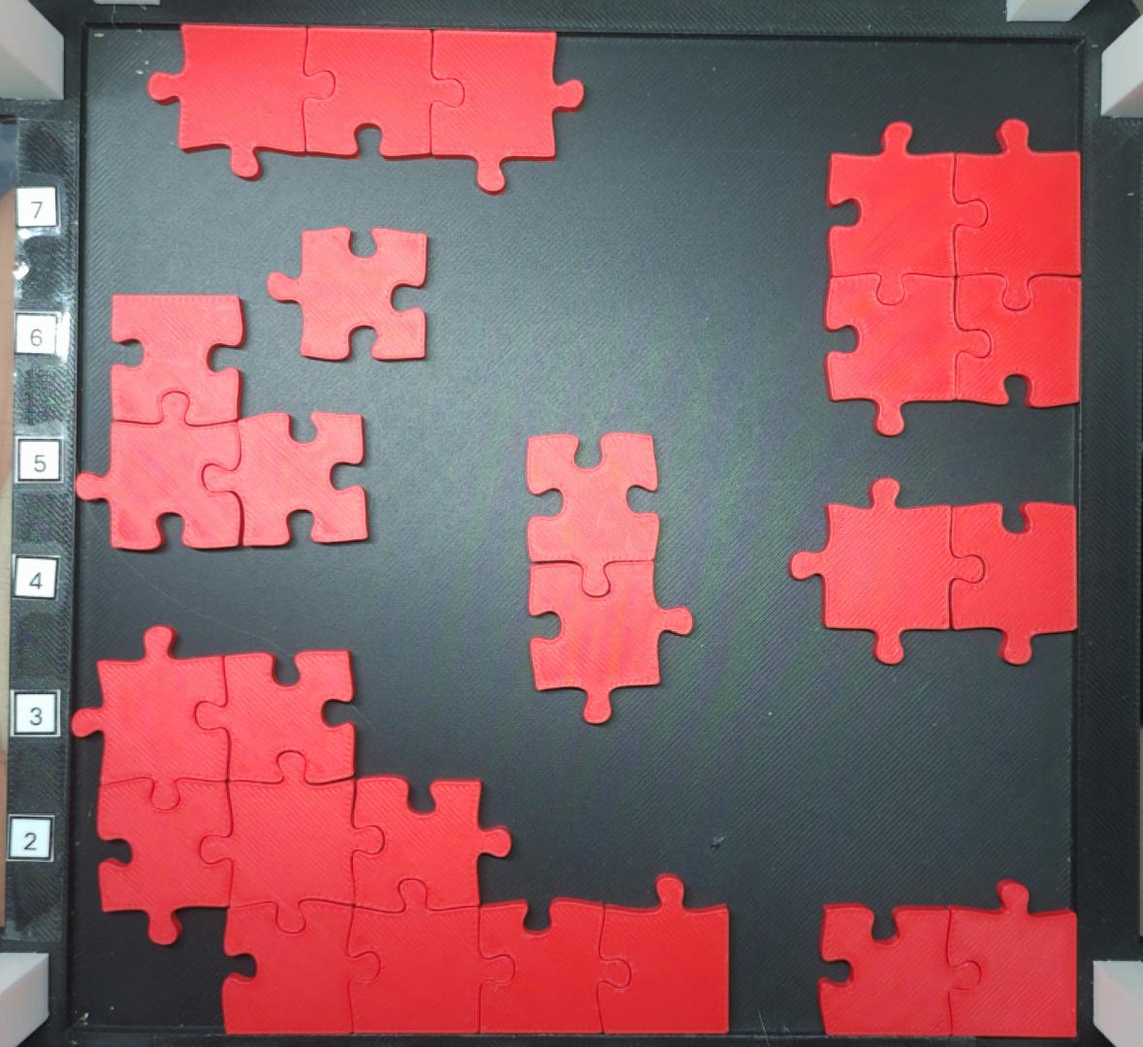p_1: (265, 224, 429, 363)
p_2: (786, 476, 1081, 667), (524, 430, 697, 726), (815, 877, 1080, 1041)
p_3: (67, 290, 374, 555), (143, 22, 587, 196)
p_4: (822, 117, 1085, 439)
p_m: (68, 623, 733, 1036)
